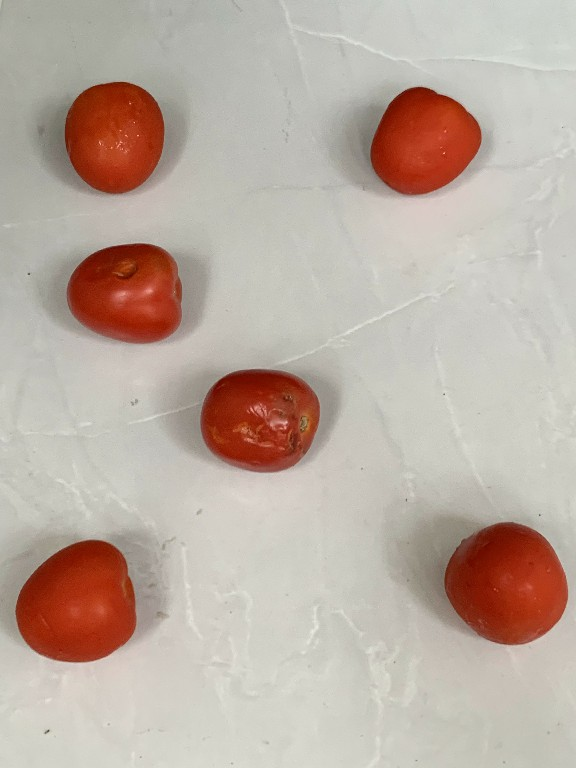NG: (189, 364, 317, 476), (61, 241, 192, 345)
OK: (432, 516, 574, 652), (6, 533, 140, 662), (360, 77, 488, 197), (62, 72, 166, 197)
